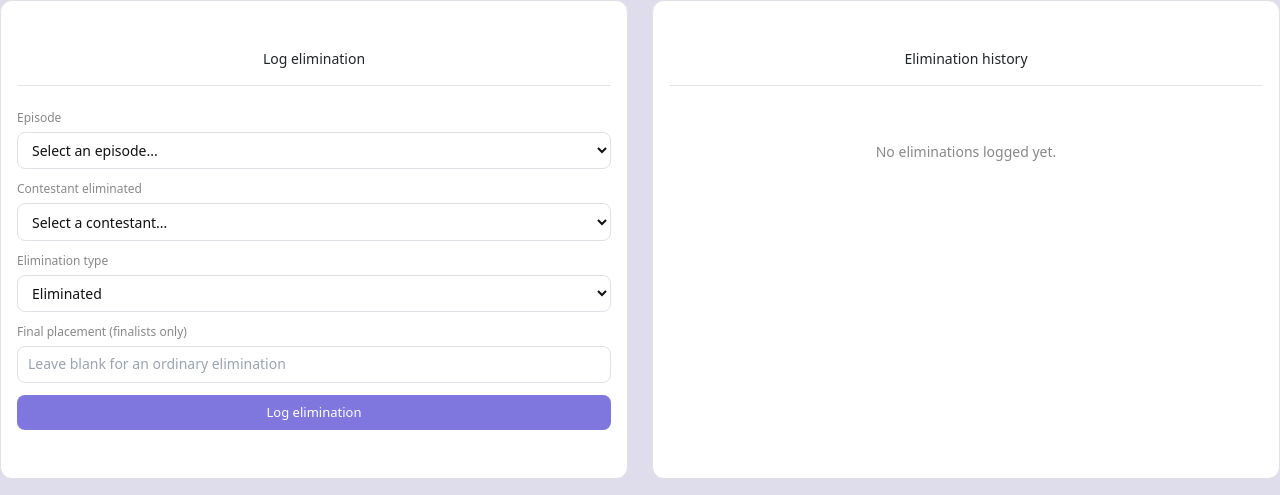
AdminEliminations › sends a final placement for a finalist, and fixes it for winner and runner-up
Select "Episode 3" in the dropdown showing "Select an episode..." below "Episode" at (314, 151), box [17,132,611,169]
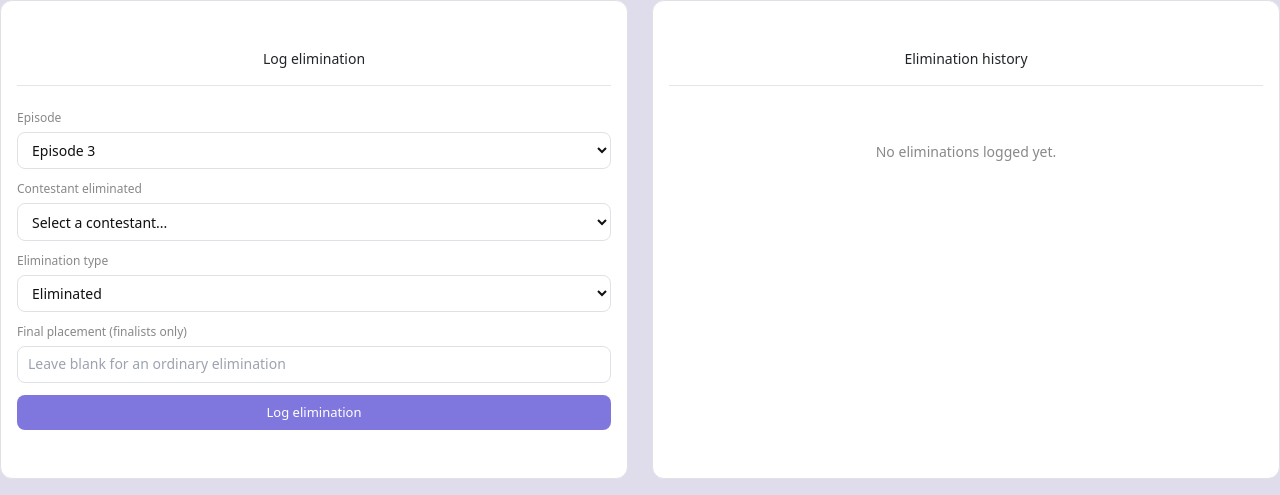
Select "Active One" in the dropdown showing "Select a contestant..." below "Contestant eliminated" at (314, 222), box [17,203,611,241]
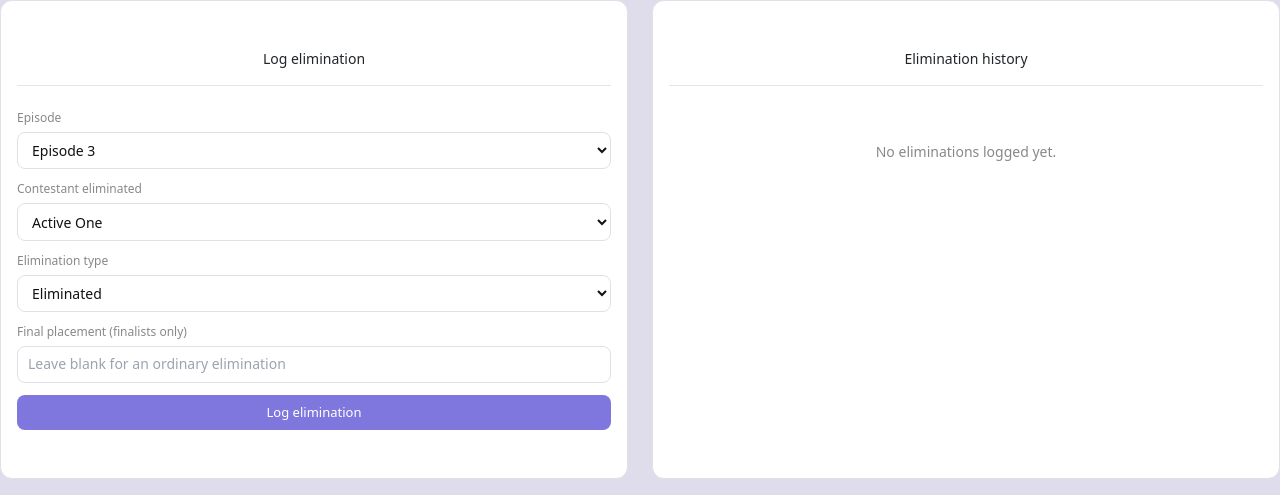
Type "3" into the number field named "Final placement" at (314, 364), box [17,346,611,382]
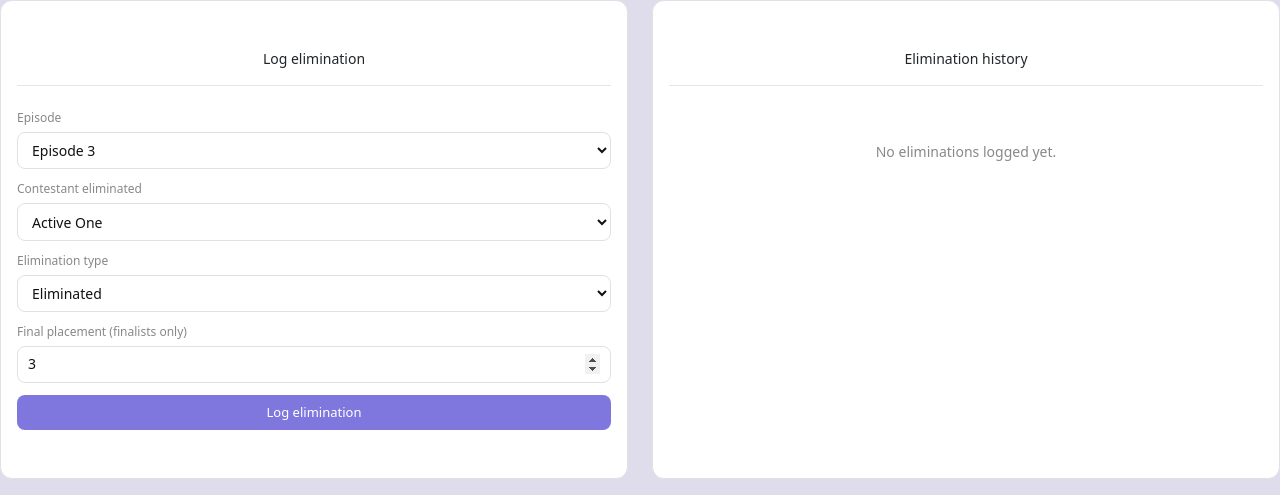
Click the button "Log elimination" at (314, 412), box [17,394,611,430]
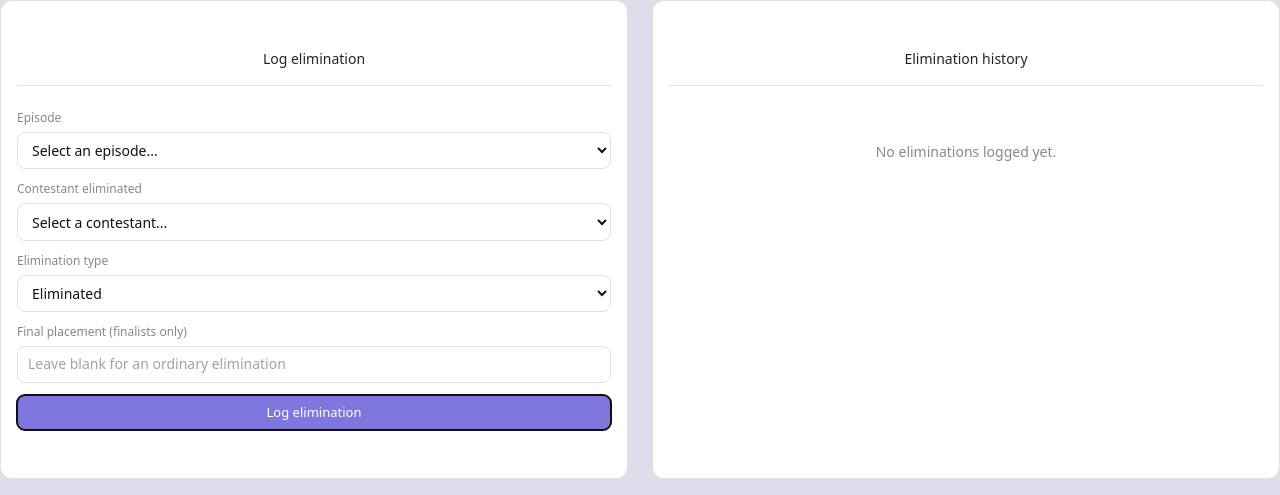
Select "Winner" in the dropdown showing "Eliminated" below "Elimination type" at (314, 294), box [17,275,611,312]
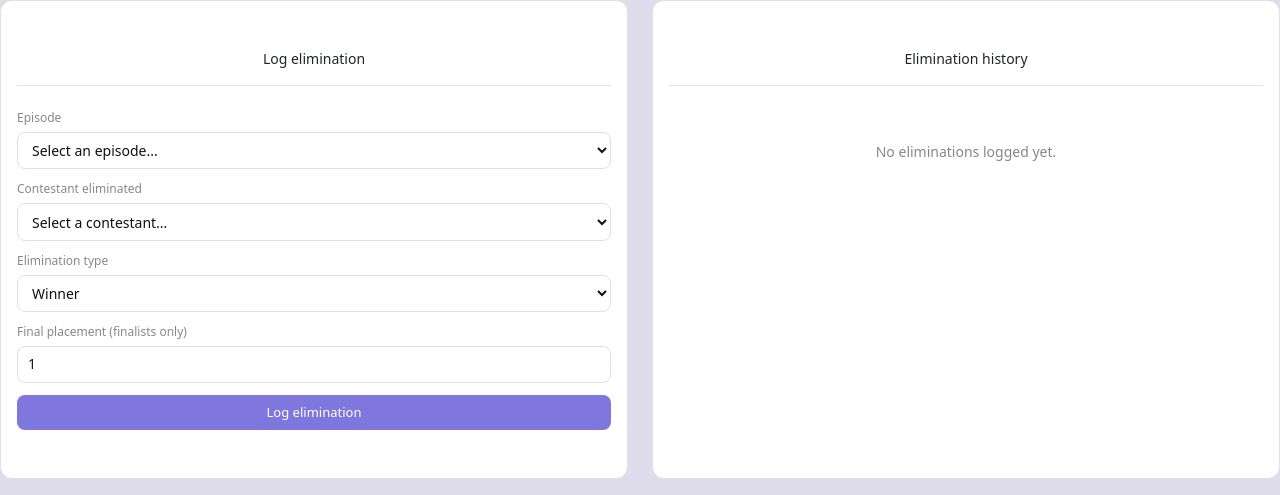
Expected: the number field named "Final placement" is disabled, [17,346,611,382]
Expected: the number field named "Final placement" holds "1", [17,346,611,382]
